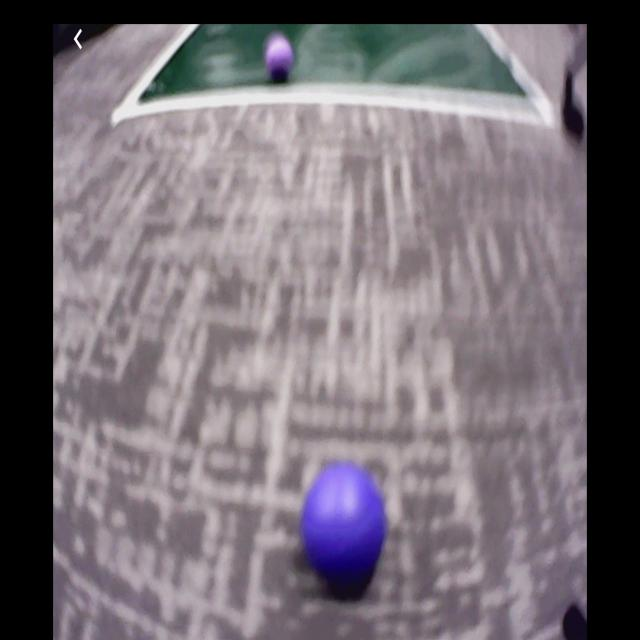ball: (305, 460, 387, 579), (266, 35, 294, 81)
